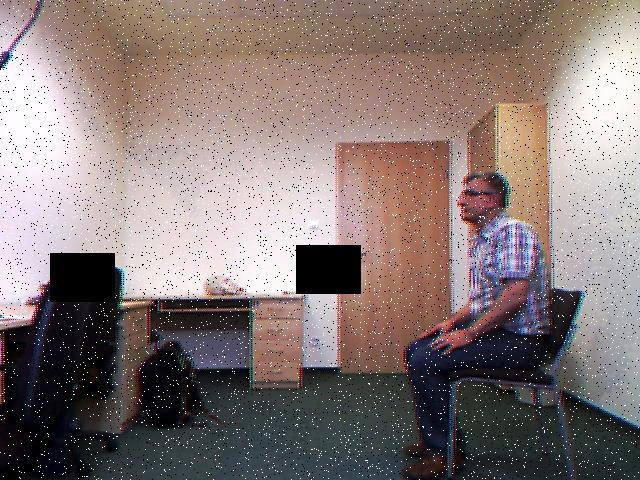sitting: (379, 160, 563, 480)
